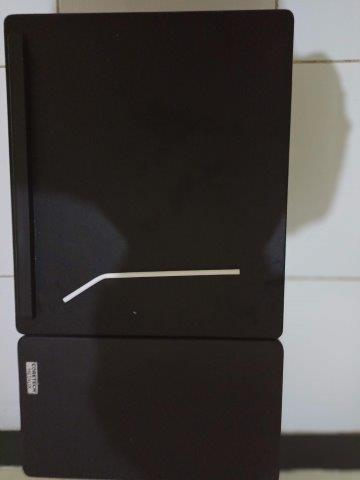sedotan: (63, 269, 239, 303)
